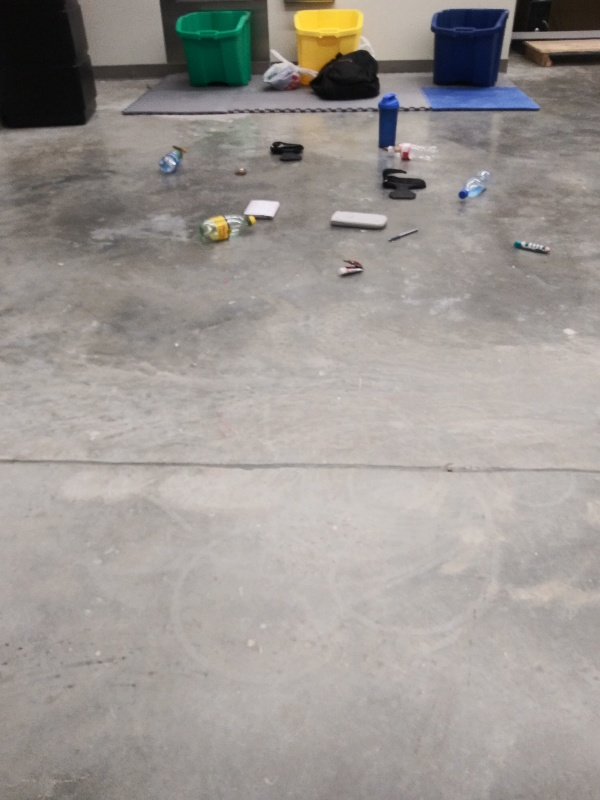bottle: (192, 206, 265, 249), (456, 165, 501, 206), (385, 138, 442, 163), (154, 143, 192, 179)
